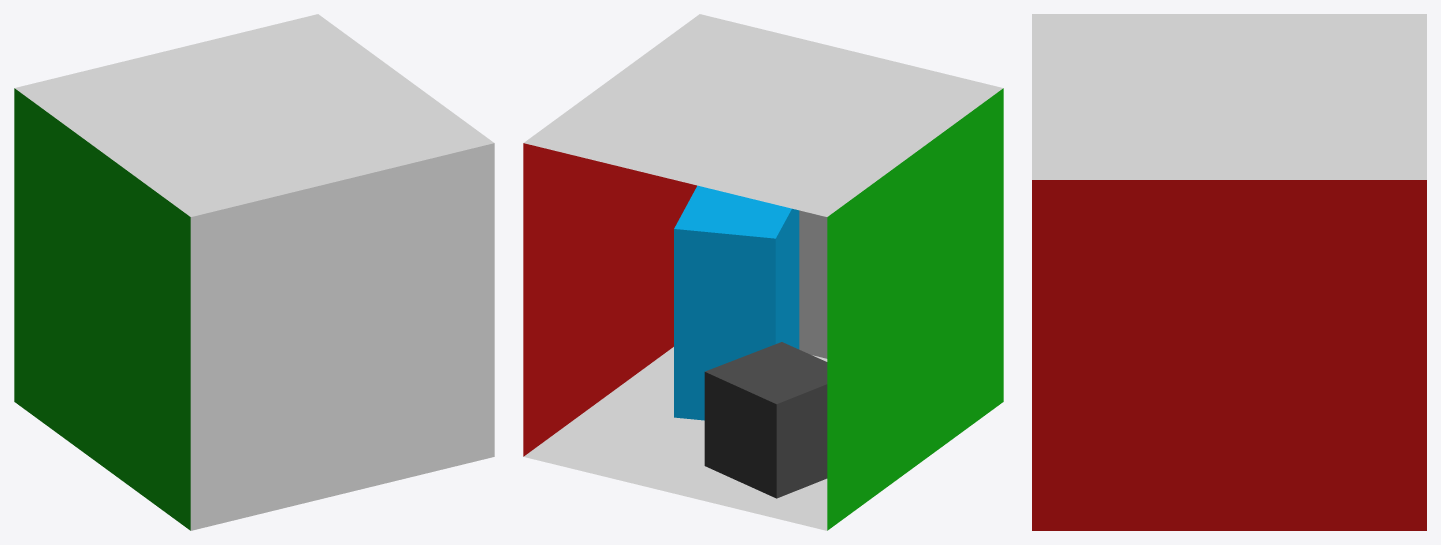
The model's file is boxlight_micro.obj.
3 views of the same model, side by side, from view 1: azimuth 30°, elevation 25°; view 2: azimuth 150°, elevation 25°; view 3: azimuth 270°, elevation 25° (orthographic). The views are drawn at different scales.
Visible parts, largest first — view 1: object 2; view 2: object 2; view 3: object 2.
Boxes of the visible parts, x1,y1,x2,y2 form: object 2: (14, 14, 494, 530); object 2: (523, 14, 1003, 530); object 2: (1032, 14, 1426, 530).
Size of the model in its own units: 5.56 by 5.49 by 5.59.
